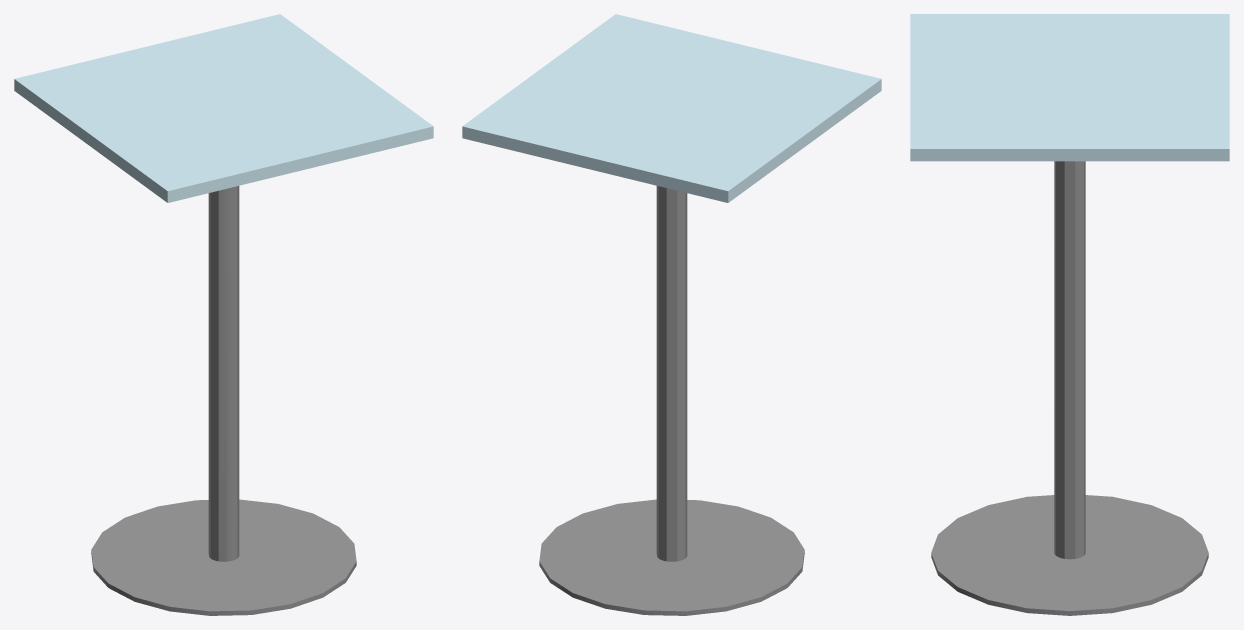
3 renders of one model, left to right at view 1: azimuth 30°, elevation 25°; view 2: azimuth 150°, elevation 25°; view 3: azimuth 270°, elevation 25°, orthographic. The views are drawn at different scales.
Visible parts, largest first — view 1: table3; view 2: table3; view 3: table3.
Boxes of the visible parts, left/top/right/bottom form: table3: left=14, top=14, right=433, bottom=615; table3: left=462, top=14, right=881, bottom=615; table3: left=910, top=14, right=1229, bottom=615.
Size of the model in its own units: 57.7 by 94.8 by 57.7.
